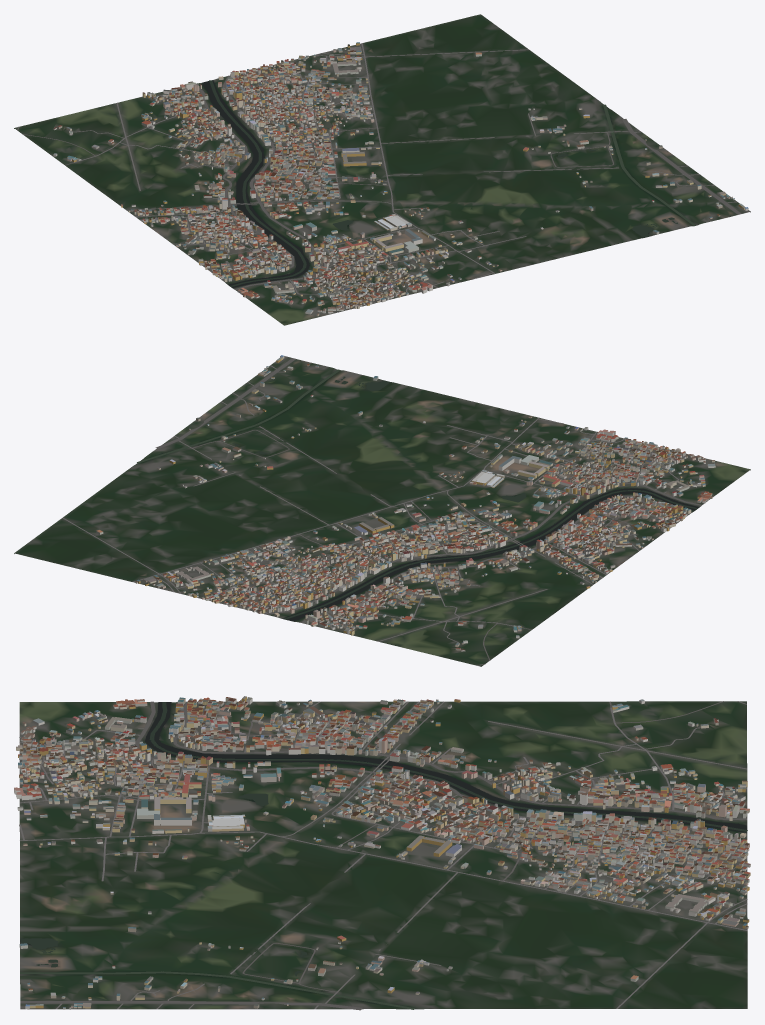
3 renders of one model, top to bottom at view 1: azimuth 30°, elevation 25°; view 2: azimuth 150°, elevation 25°; view 3: azimuth 270°, elevation 25°, orthographic. The views are drawn at different scales.
Parts seen in each view (by area): view 1: ground, buildings, roads, water; view 2: ground, buildings, roads, water; view 3: ground, buildings, roads, water.
Part boxes in pixels (box(x1,y1,x2,y2)): ground: box(14, 14, 750, 325); buildings: box(53, 42, 748, 316); roads: box(17, 43, 741, 312); water: box(202, 80, 696, 287); ground: box(14, 356, 750, 666); buildings: box(96, 355, 715, 651); roads: box(62, 358, 702, 665); water: box(137, 369, 698, 621); ground: box(19, 701, 747, 1009); buildings: box(14, 696, 750, 1009); roads: box(19, 701, 747, 1010); water: box(20, 702, 747, 1009).
Bounding box in the file's own units: 1412 × 31.68 × 1420.
